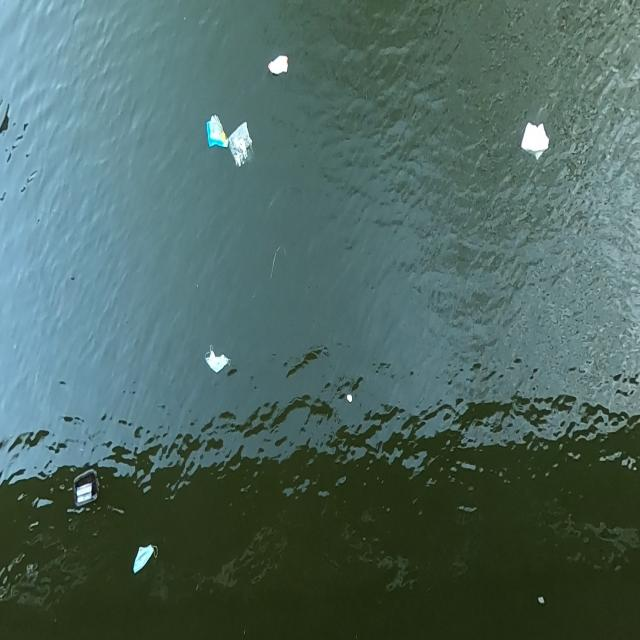Autre plastique: (520, 115, 554, 167), (267, 53, 295, 81)
Non plastique: (132, 536, 160, 583), (202, 343, 234, 381)
Sac plastique: (228, 118, 258, 169), (202, 110, 230, 160)
